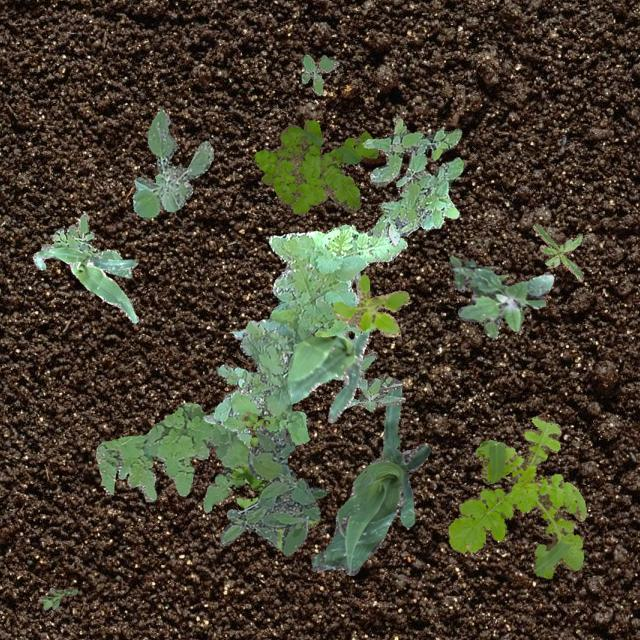crop: (202, 270, 368, 422), (311, 378, 428, 574), (32, 244, 138, 322)
weed: (212, 223, 406, 448), (448, 416, 586, 578), (94, 402, 250, 512), (218, 424, 328, 554), (362, 114, 462, 244), (228, 410, 318, 550), (252, 120, 376, 213), (132, 108, 212, 216), (448, 255, 552, 338), (40, 212, 130, 278), (332, 274, 408, 336), (332, 350, 404, 410), (532, 222, 582, 280), (300, 54, 338, 94), (38, 586, 76, 608)
